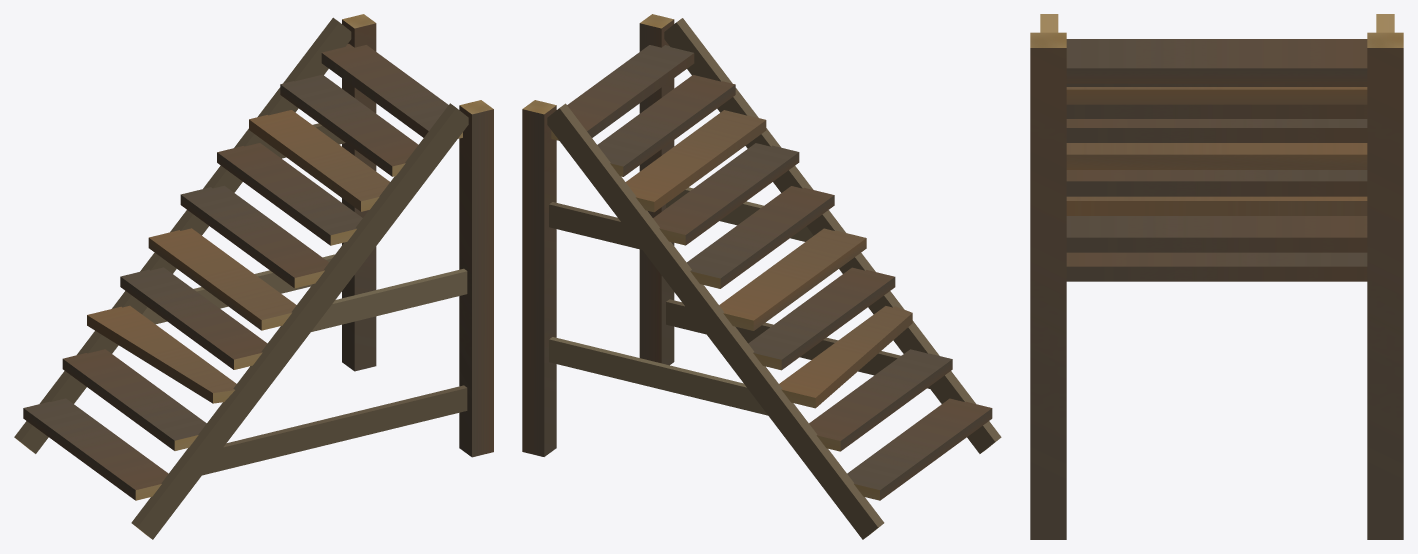
Rendered from Wood_Stairs_2_LOD1.fbx.
The picture shows the model from 3 angles, left to right: view 1: azimuth 30°, elevation 25°; view 2: azimuth 150°, elevation 25°; view 3: azimuth 270°, elevation 25°; orthographic projection. The views are drawn at different scales.
Parts seen in each view (by area): view 1: polySurface9821; view 2: polySurface9821; view 3: polySurface9821.
Part boxes in pixels (x1,y1,x2,y2): polySurface9821: [14, 14, 493, 539]; polySurface9821: [522, 14, 1001, 539]; polySurface9821: [1030, 14, 1403, 539].
Bounding box in the file's own units: 349 × 338 × 223.
